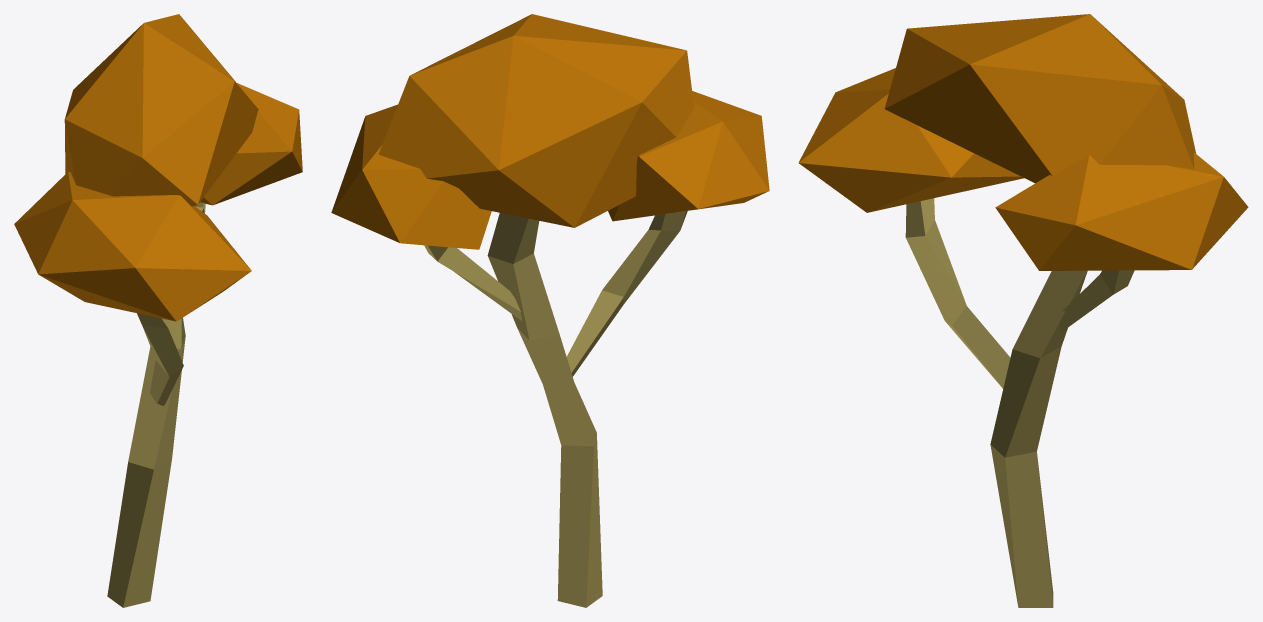
File: Tree_Fall_2.fbx
3 renders of one model, left to right at view 1: azimuth 30°, elevation 25°; view 2: azimuth 150°, elevation 25°; view 3: azimuth 270°, elevation 25°, orthographic. The views are drawn at different scales.
Parts seen in each view (by area): view 1: Leaves.002, Leaves.001, Trunk, Leaves, Trunk.002; view 2: Leaves.002, Trunk, Leaves.001, Leaves, Trunk.002, Trunk.001; view 3: Leaves.002, Leaves, Leaves.001, Trunk, Trunk.002, Trunk.001.
Boxes of the visible parts, x1=… form: Leaves.002: x1=64, y1=14, x2=258, y2=206; Leaves.001: x1=14, y1=172, x2=251, y2=321; Trunk: x1=107, y1=317, x2=185, y2=607; Leaves: x1=200, y1=83, x2=302, y2=205; Trunk.002: x1=137, y1=313, x2=183, y2=405; Leaves.002: x1=378, y1=14, x2=694, y2=227; Trunk: x1=487, y1=213, x2=602, y2=607; Leaves.001: x1=608, y1=91, x2=769, y2=221; Leaves: x1=331, y1=104, x2=491, y2=249; Trunk.002: x1=566, y1=211, x2=687, y2=376; Trunk.001: x1=424, y1=245, x2=521, y2=320; Leaves.002: x1=884, y1=14, x2=1196, y2=183; Leaves: x1=995, y1=152, x2=1248, y2=270; Leaves.001: x1=798, y1=68, x2=1024, y2=212; Trunk: x1=990, y1=270, x2=1087, y2=607; Trunk.002: x1=905, y1=198, x2=1010, y2=388; Trunk.001: x1=1059, y1=270, x2=1134, y2=332.
Size of the model in its own units: 222 by 358 by 240.
